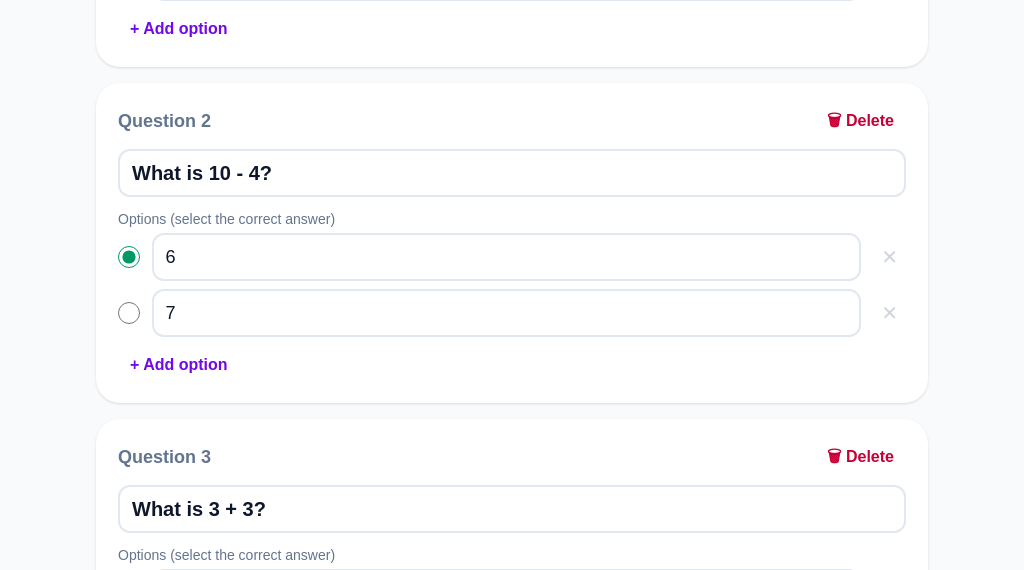
GamePreview › blocks Play and points at the problem while an option is empty
This screenshot has width=1024, height=570.
(page scrolled)
Click the button "+ Add option" below "Question 2" at (179, 365), box [118, 349, 240, 381]
(page scrolled)
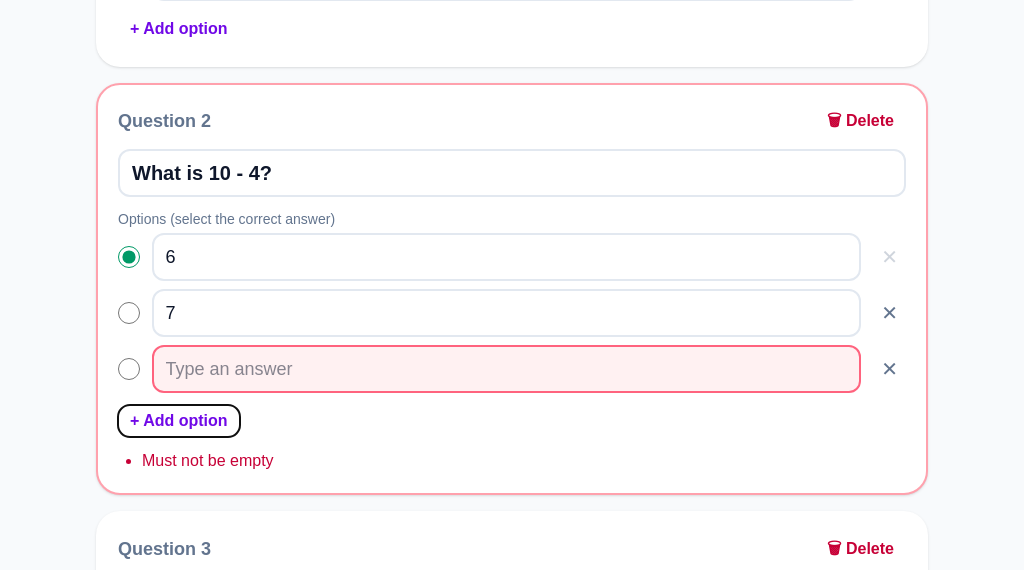
Type "8" into the field named "Question 2, option 3" at (506, 369), box [152, 345, 861, 393]
(page scrolled)
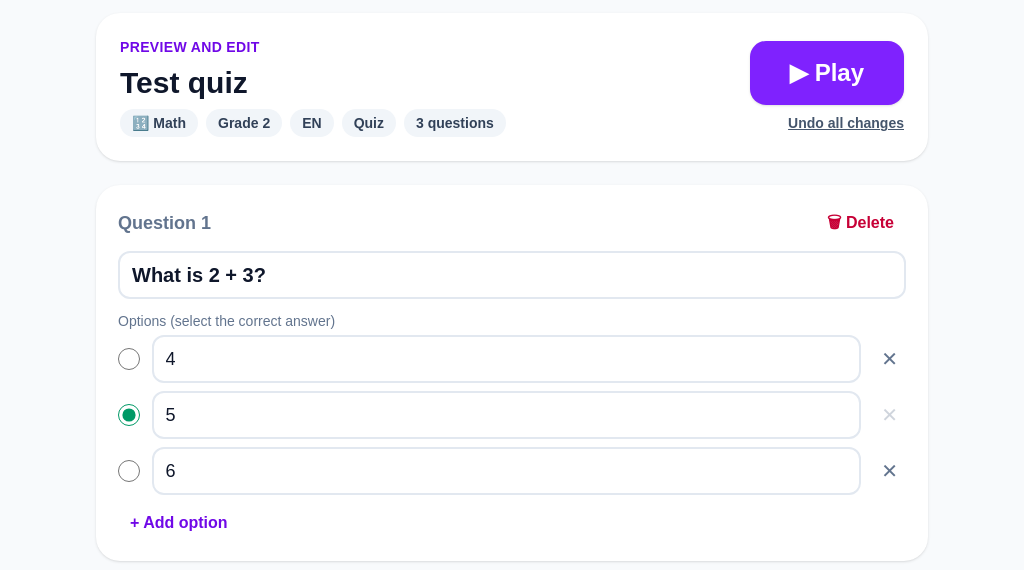
Check: the button "▶ Play" is enabled, box [750, 41, 904, 105]
